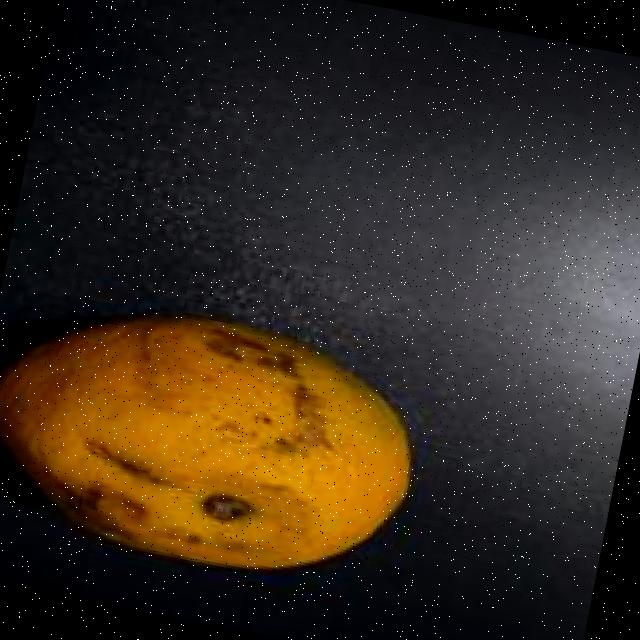overripe: (0, 275, 437, 615)
